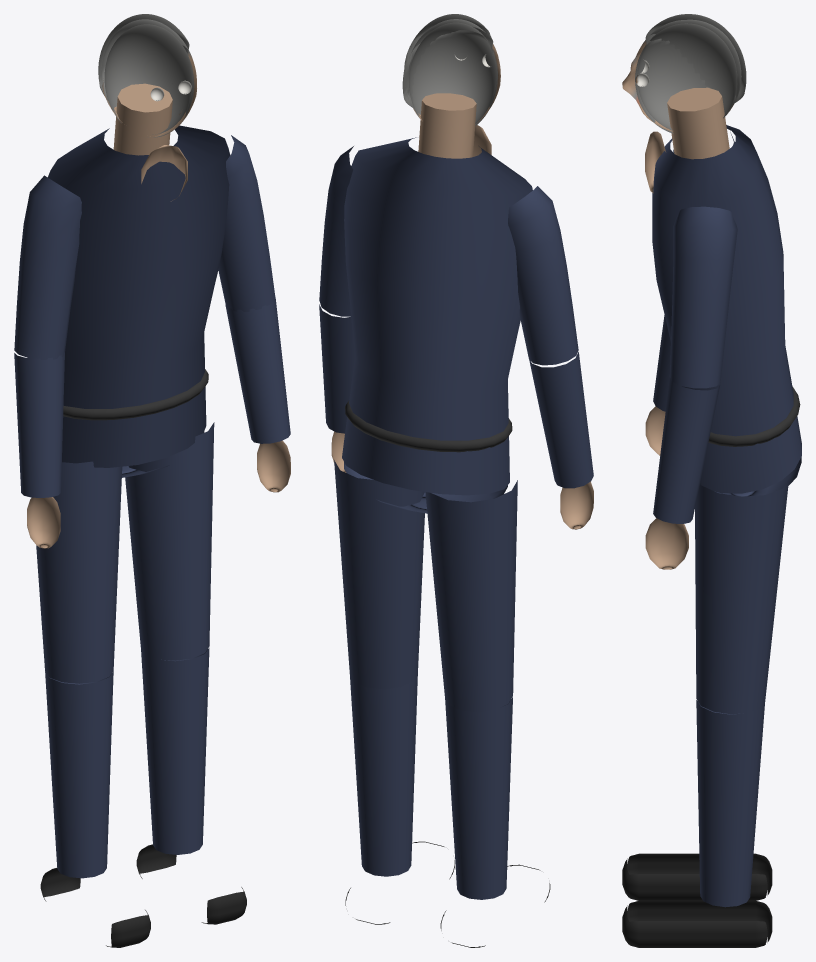
Rendered from ballast_control_standing.glb.
3 views of the same model, side by side, from view 1: azimuth 30°, elevation 25°; view 2: azimuth 150°, elevation 25°; view 3: azimuth 270°, elevation 25° (orthographic).
Parts seen in each view (by area): view 1: body, head; view 2: body, head; view 3: body, head.
Boxes of the visible parts, x1=… form: body: x1=14, y1=83, x2=290, y2=947; head: x1=98, y1=14, x2=196, y2=137; body: x1=319, y1=93, x2=593, y2=947; head: x1=402, y1=14, x2=500, y2=125; body: x1=622, y1=87, x2=801, y2=947; head: x1=622, y1=14, x2=746, y2=133.
Bounding box in the file's own units: 0.5518 × 1.79 × 0.3231.
